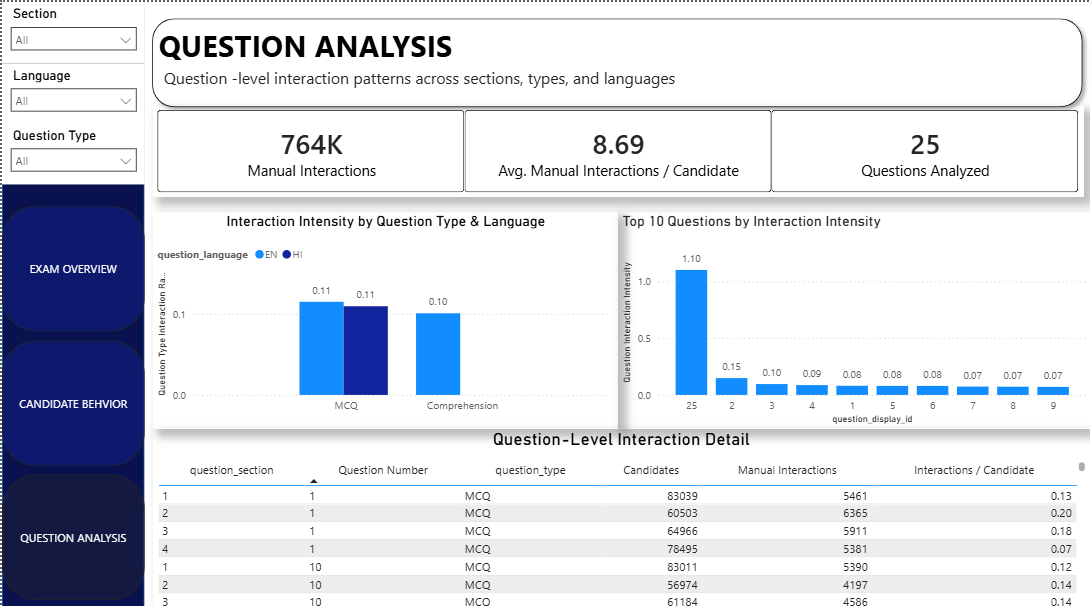

Layout of this report page (visuals, bound fields, positions):
{"tool":"powerbi","page":{"name":"QUESTION ANALYSIS","canvas":[1280,720],"ordinal":2},"visuals":[{"type":"shape","box":[0,0,167.7,720.6],"z":0},{"type":"shape","box":[167.5,0,1112.5,720],"z":1000},{"type":"shape","box":[167.5,10,1112.5,122.5],"z":2000},{"type":"textbox","box":[185,71.7,980,40],"z":3000},{"type":"cardVisual","fields":{"Data":["Sum(public question_behavior.manual_interactions)","Avg(public candidate_behavior.manual_interactions)","Count(public question_behavior.question_display_id)"]},"box":[177.5,122.5,1095,107.5],"z":4000},{"type":"clusteredColumnChart","title":"Interaction Intensity by Question Type & Language","fields":{"Category":["public question_behavior.question_type"],"Y":["public question_behavior.Question Type Interaction Rate"],"Series":["public question_behavior.question_language"]},"box":[177.5,247.5,547.5,255],"z":5000},{"type":"clusteredColumnChart","title":"Top 10 Questions by Interaction Intensity","fields":{"Category":["public question_behavior.question_display_id"],"Y":["public question_behavior.Question Interaction Intensity"]},"box":[725,247.5,555,255],"z":6000},{"type":"tableEx","title":"Question-Level Interaction Detail","fields":{"Values":["public question_behavior.question_section","public question_behavior.question_display_id","public question_behavior.question_type","Sum(public question_behavior.candidates)","Sum(public question_behavior.manual_interactions)","Sum(public question_behavior.manual_interactions_per_candidate)"]},"box":[178.3,501.7,1101.7,218.3],"z":7000},{"type":"pageNavigator","box":[0,240,168.3,465],"z":8000},{"type":"slicer","fields":{"Values":["public question_behavior.question_section"]},"box":[0,0,168.3,71.7],"z":9000},{"type":"slicer","fields":{"Values":["public question_behavior.question_language"]},"box":[0,71.7,168.3,71.7],"z":10000},{"type":"slicer","fields":{"Values":["public question_behavior.question_type"]},"box":[0,143.3,168.3,71.7],"z":11000}]}

Visuals, with their boxes in screenshot pixels (x1, y1, x2, y2), scaled from the page's 1280x720 canvas onto the 1090x606 screenshot:
shape: [left=0, top=0, right=143, bottom=605]
shape: [left=143, top=0, right=1089, bottom=605]
shape: [left=143, top=8, right=1089, bottom=112]
textbox: [left=158, top=60, right=992, bottom=94]
cardVisual - Sum(public question_behavior.manual_interactions) x Avg(public candidate_behavior.manual_interactions): [left=151, top=103, right=1084, bottom=194]
"Interaction Intensity by Question Type & Language" clusteredColumnChart: [left=151, top=208, right=617, bottom=423]
"Top 10 Questions by Interaction Intensity" clusteredColumnChart: [left=617, top=208, right=1089, bottom=423]
"Question-Level Interaction Detail" tableEx: [left=152, top=422, right=1089, bottom=605]
pageNavigator: [left=0, top=202, right=143, bottom=593]
slicer - public question_behavior.question_section: [left=0, top=0, right=143, bottom=60]
slicer - public question_behavior.question_language: [left=0, top=60, right=143, bottom=121]
slicer - public question_behavior.question_type: [left=0, top=121, right=143, bottom=181]
